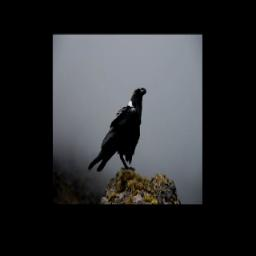Crow: (86, 83, 147, 176)
